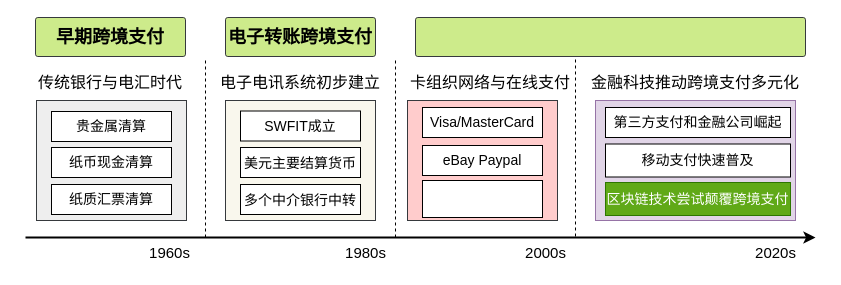
The diagram is 841 pixels wide and 285 high, and some of its shapes have lost their labels. The box of each missing label's shape, as (x1, y1, x2, y2) in pixels:
大型商业银行与国际卡组织主导: (422, 180, 542, 218)
第三方跨境支付: (414, 16, 806, 56)
